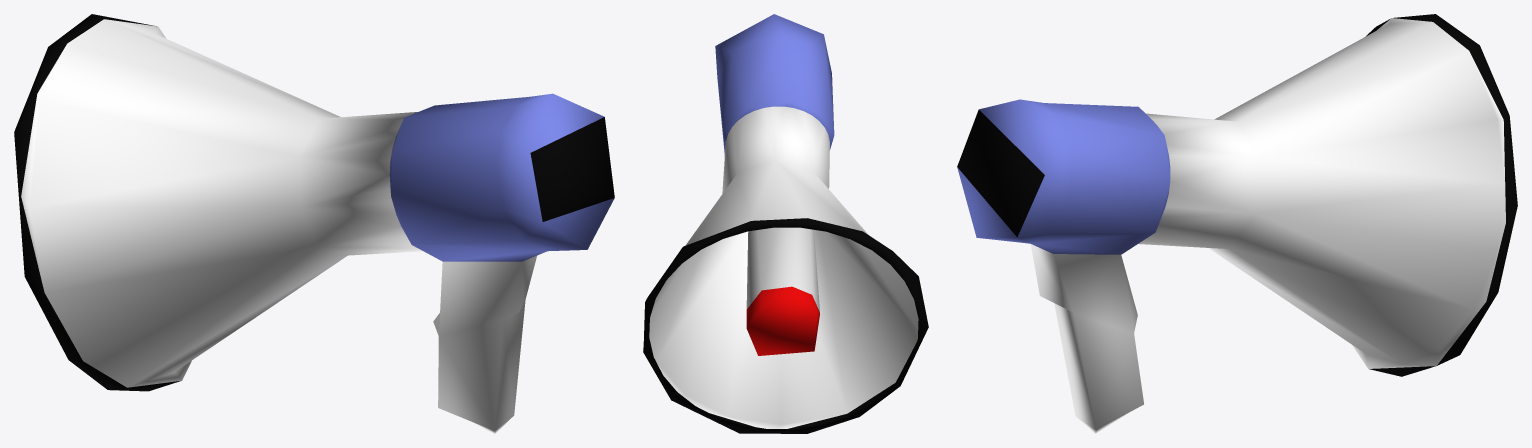
File: megaphone.fbx
3 views of the same model, side by side, from view 1: azimuth 30°, elevation 25°; view 2: azimuth 150°, elevation 25°; view 3: azimuth 270°, elevation 25° (orthographic). The views are drawn at different scales.
Visible parts, largest first — view 1: MegaPhone_Cylinder.001; view 2: MegaPhone_Cylinder.001; view 3: MegaPhone_Cylinder.001.
Boxes of the visible parts, bbox=[...] form: MegaPhone_Cylinder.001: bbox=[14, 14, 614, 433]; MegaPhone_Cylinder.001: bbox=[643, 14, 928, 433]; MegaPhone_Cylinder.001: bbox=[957, 14, 1517, 433].
Bounding box in the file's own units: 233 × 195 × 279.
